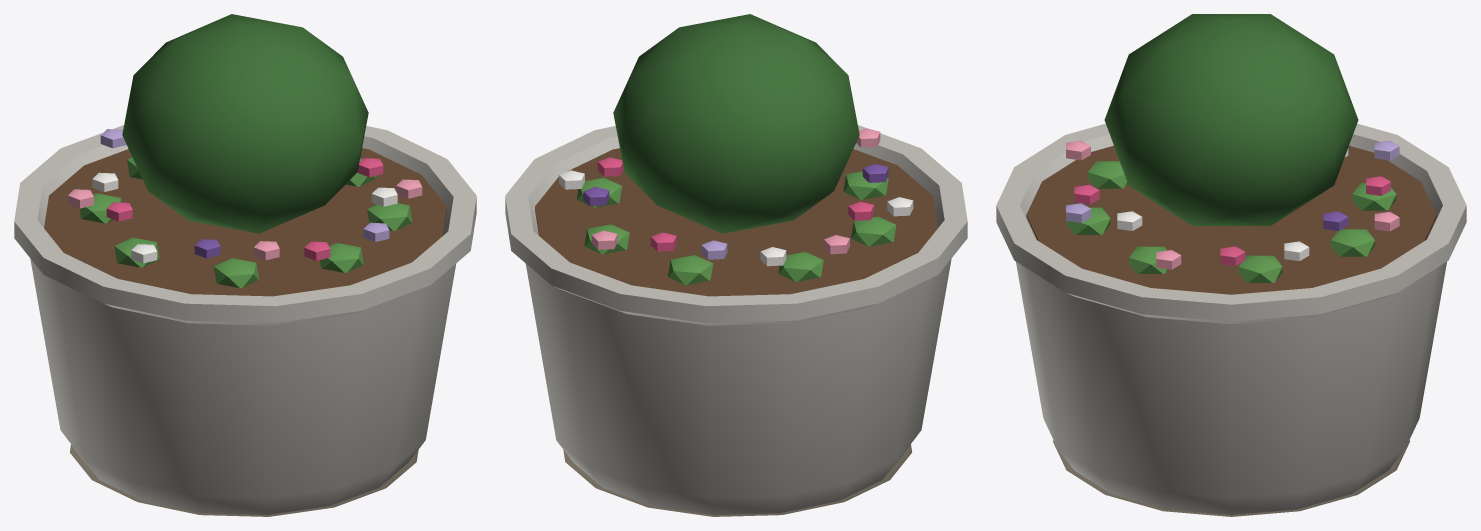
File: SC_Str_Planter_Street_Round.gltf
3 renders of one model, left to right at view 1: azimuth 30°, elevation 25°; view 2: azimuth 150°, elevation 25°; view 3: azimuth 270°, elevation 25°, orthographic.
Visible parts, largest first — view 1: SC_Str_Planter_Street_Round; view 2: SC_Str_Planter_Street_Round; view 3: SC_Str_Planter_Street_Round.
Boxes of the visible parts, x1,y1,x2,y2 form: SC_Str_Planter_Street_Round: [14, 14, 476, 516]; SC_Str_Planter_Street_Round: [505, 14, 967, 516]; SC_Str_Planter_Street_Round: [996, 14, 1466, 516].
Bounding box in the file's own units: 1 × 0.9895 × 1.
1 material, 1 textured.
